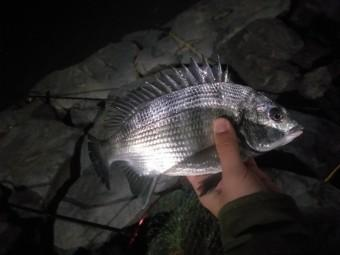fish: (86, 53, 304, 194)
